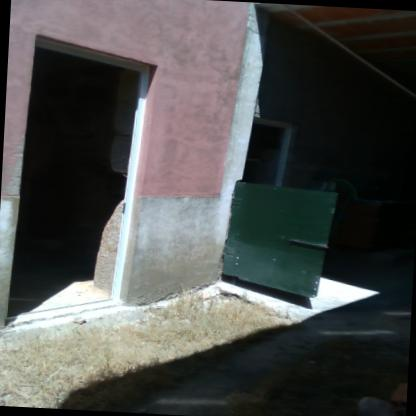open: (0, 35, 163, 339)
